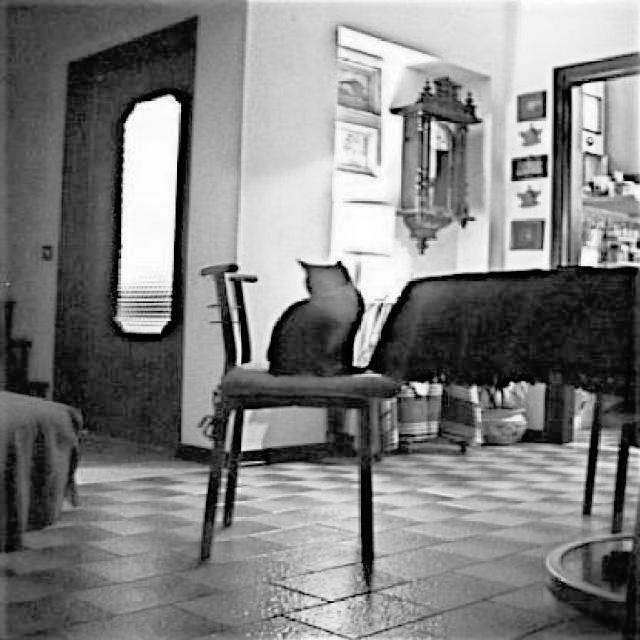Cat: (266, 255, 377, 380)
